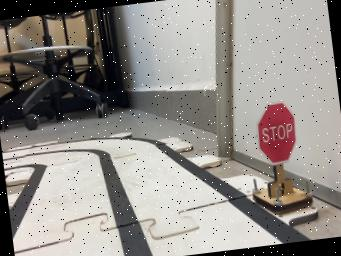stop: (252, 101, 312, 214), (252, 101, 312, 214), (252, 101, 312, 214), (252, 101, 312, 214), (252, 101, 312, 214), (252, 101, 312, 214)
street: (2, 137, 311, 256), (2, 137, 311, 256), (2, 137, 311, 256), (2, 137, 311, 256), (2, 137, 311, 256), (2, 137, 311, 256)
